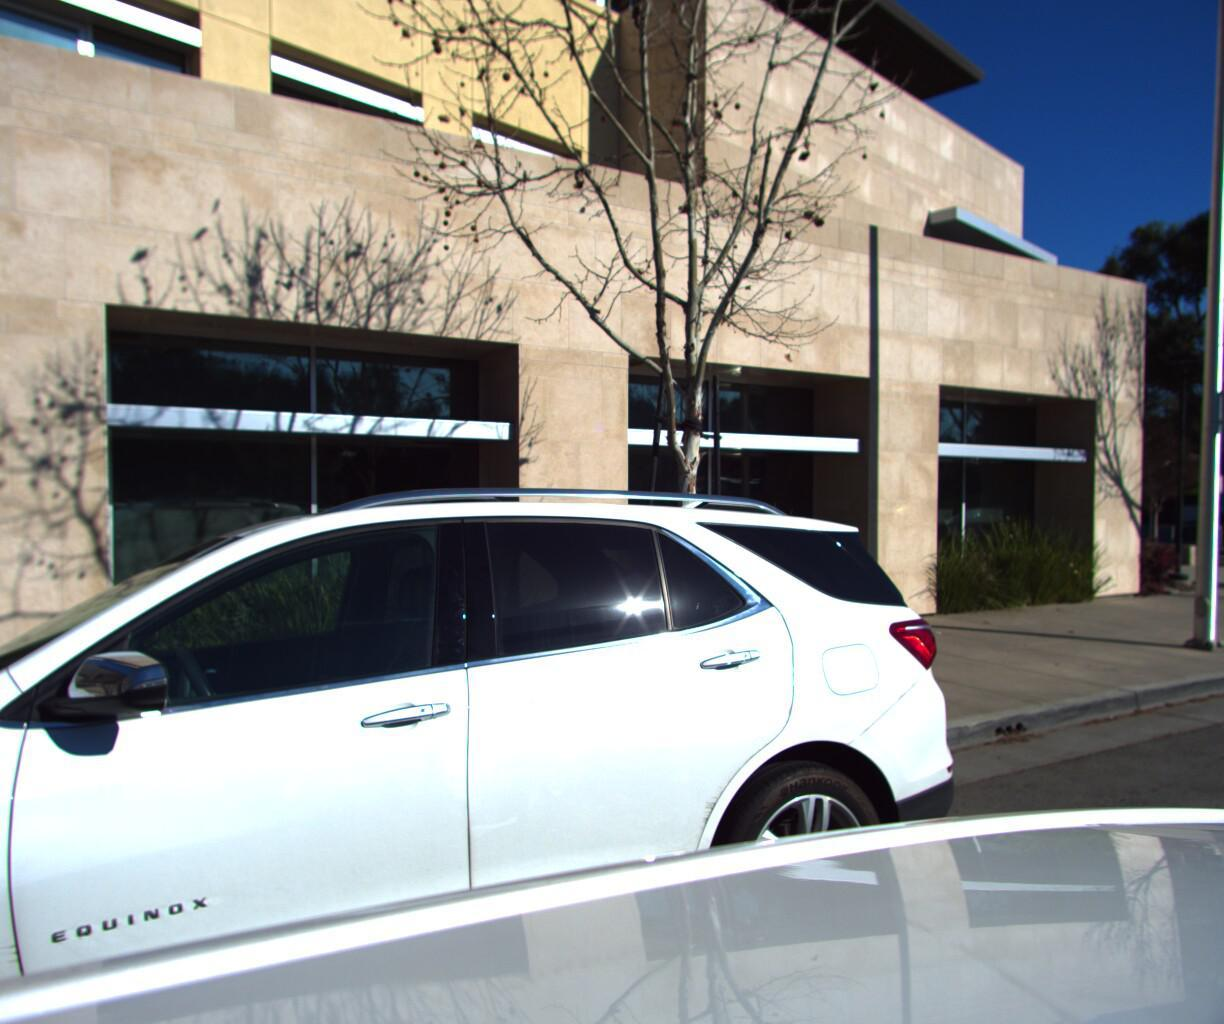car: (0, 445, 1070, 1024), (640, 488, 767, 539)
